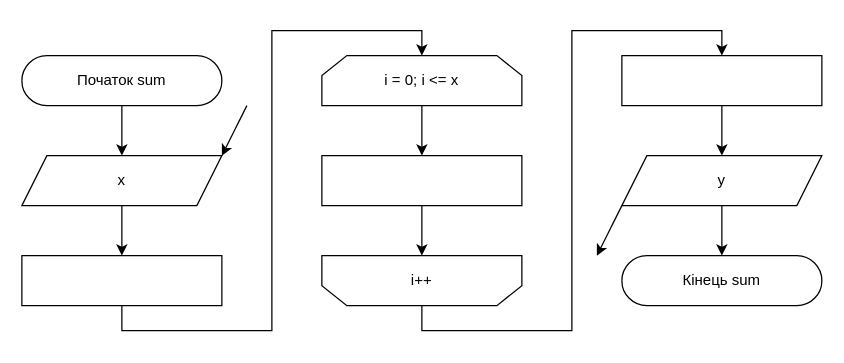
The diagram is 844 pixels wide and 363 high, and some of its shapes have lost their labels. Here are the shapes that lost their labels. From the top down, the centre of each, then its label:
At pixel 721 80: "y = 13 - sum".
At pixel 421 180: "next = pow(7 + i, 7) sum += next".
At pixel 121 280: "sum = 0".
